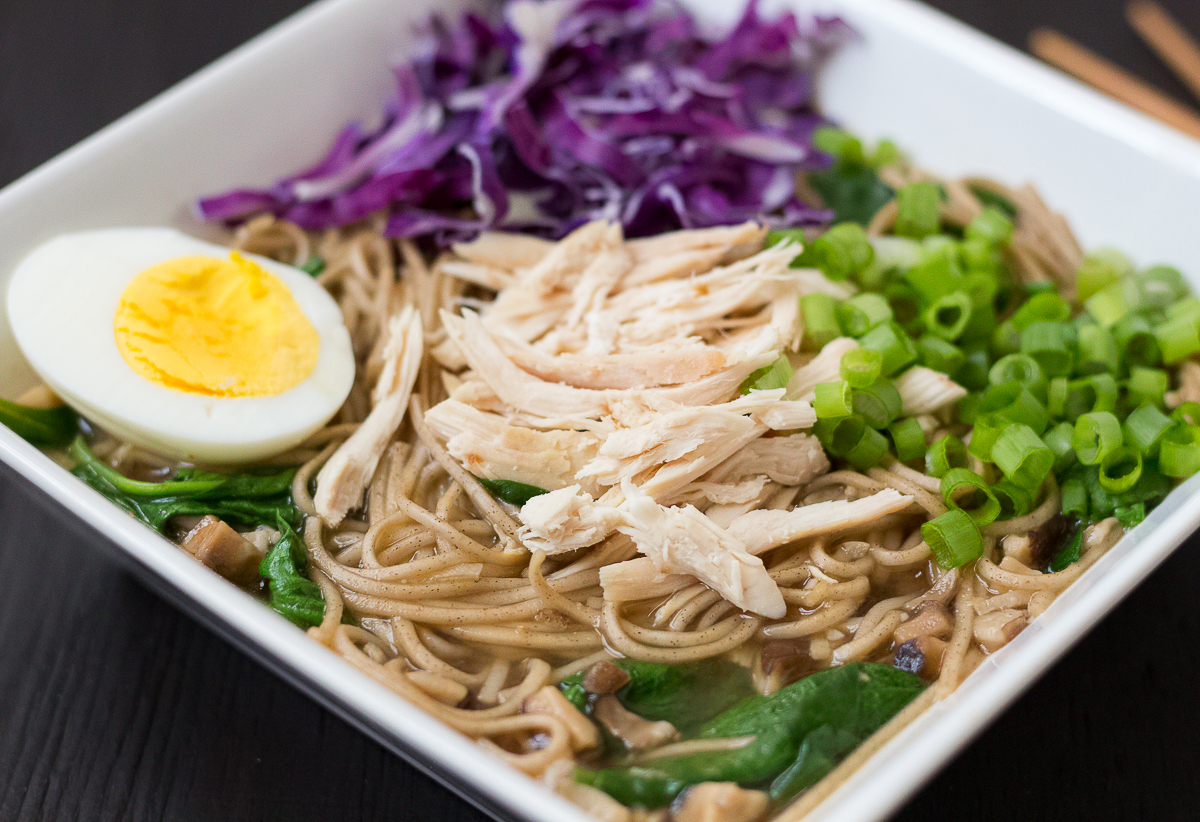Soba: (147, 97, 1168, 760)
